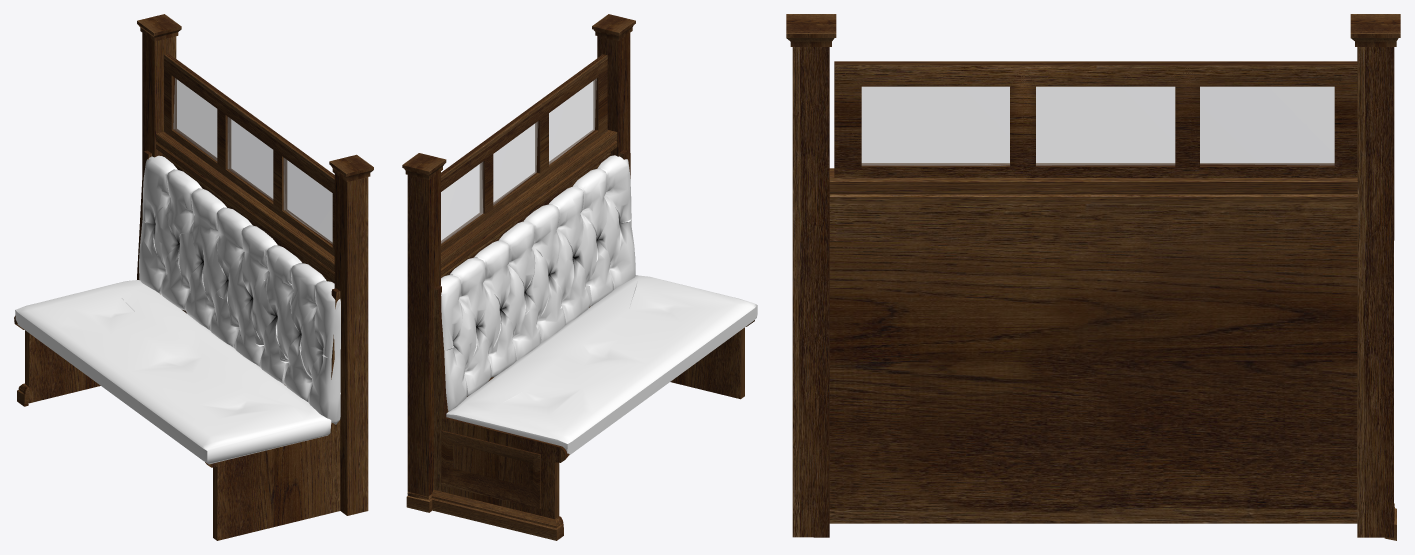
Rendered from Furniture 3.FBX.
The picture shows the model from 3 angles, left to right: view 1: azimuth 30°, elevation 25°; view 2: azimuth 150°, elevation 25°; view 3: azimuth 270°, elevation 25°; orthographic projection. The views are drawn at different scales.
Parts seen in each view (by area): view 1: Furniture 3; view 2: Furniture 3; view 3: Furniture 3.
Part boxes in pixels (<box>): Furniture 3: <box>14,14,373,540</box>; Furniture 3: <box>402,14,757,540</box>; Furniture 3: <box>786,14,1400,540</box>.
Bounding box in the file's own units: 29.05 × 60.35 × 65.96.
3 materials, 1 textured.
